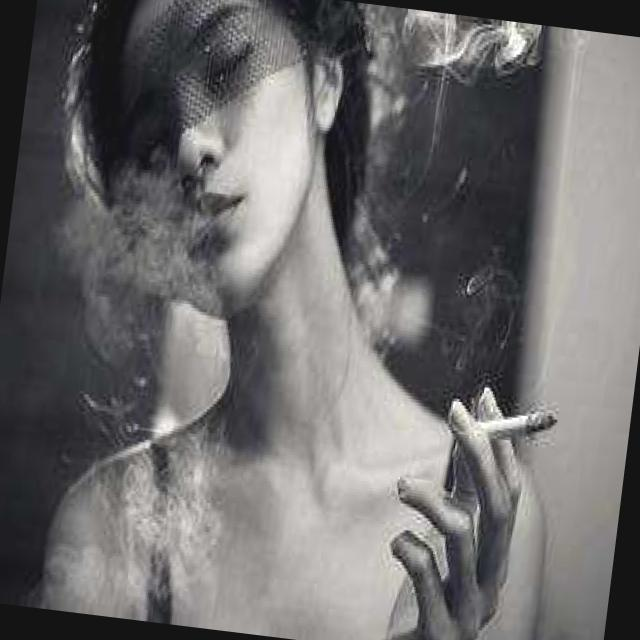smoke: (442, 381, 569, 478)
